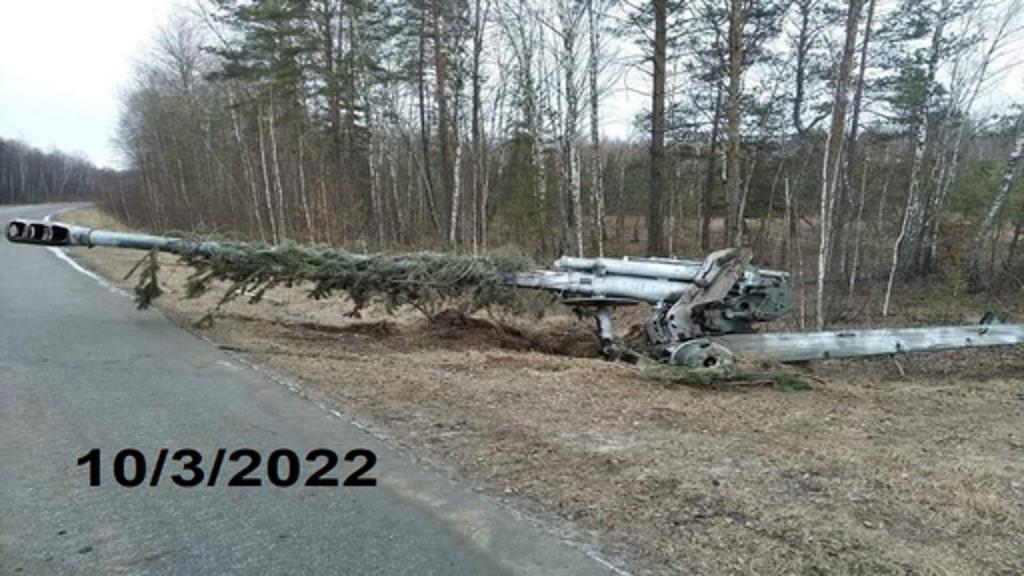ART: (4, 212, 802, 378)
